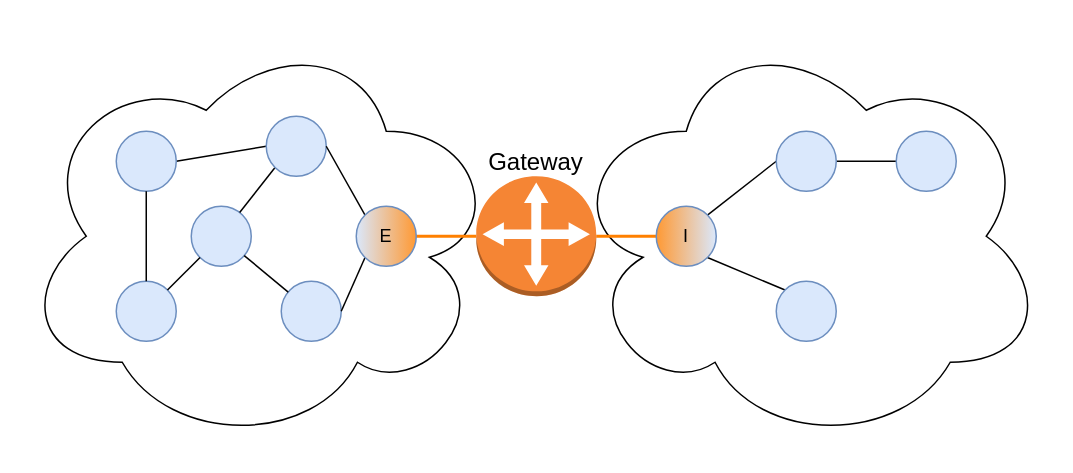
Image size: 1073x473. Some labels were removed from this diagram. Here are the shapes that lost their labels. From the top down, the box of each, then its label:
(25, 25, 506, 446): External
(565, 25, 1046, 446): Internal
